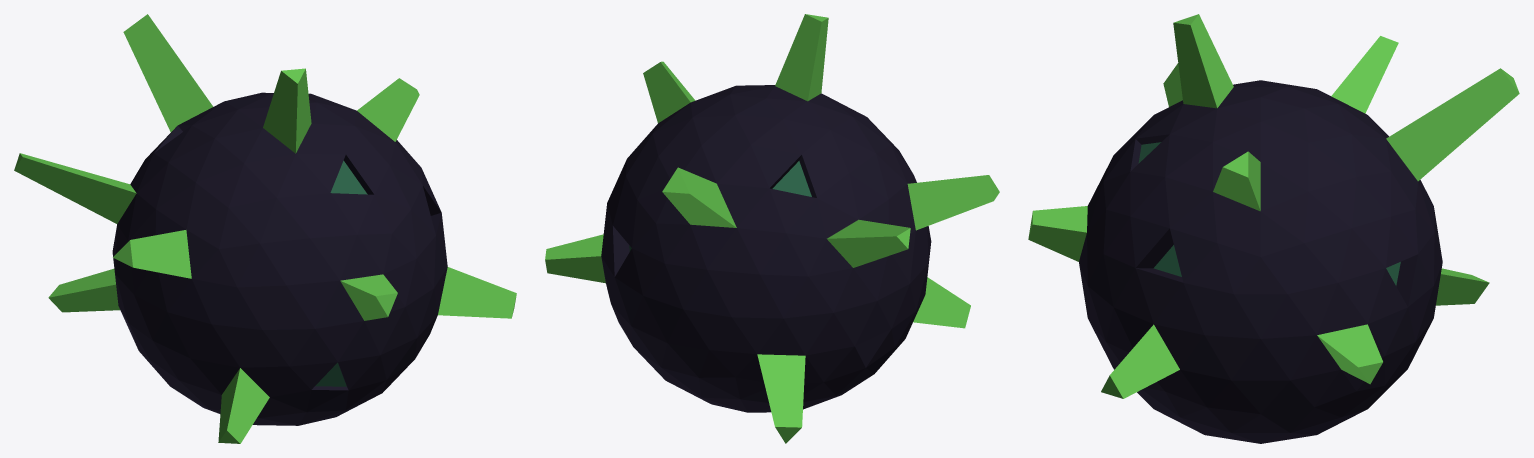
File: alientThing2.glb
3 renders of one model, left to right at view 1: azimuth 30°, elevation 25°; view 2: azimuth 150°, elevation 25°; view 3: azimuth 270°, elevation 25°, orthographic. The views are drawn at different scales.
Visible parts, largest first — view 1: Icosphere; view 2: Icosphere; view 3: Icosphere.
Boxes of the visible parts, left/top/right/bottom form: Icosphere: left=14, top=14, right=516, bottom=443; Icosphere: left=545, top=14, right=999, bottom=443; Icosphere: left=1028, top=14, right=1519, bottom=443.
Bounding box in the file's own units: 2.63 × 2.42 × 2.7.
1 material, 1 textured.
